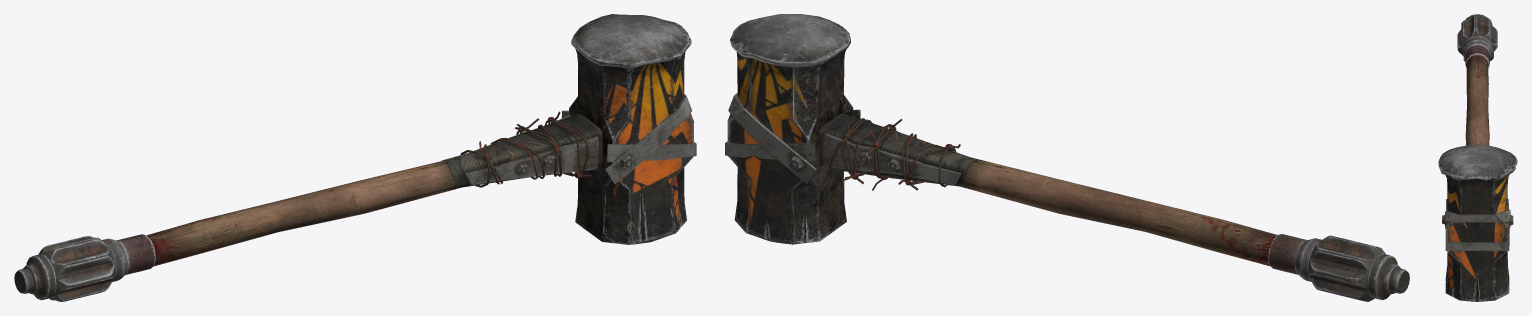
File: hammer.glb
3 renders of one model, left to right at view 1: azimuth 30°, elevation 25°; view 2: azimuth 150°, elevation 25°; view 3: azimuth 270°, elevation 25°, orthographic. The views are drawn at different scales.
Visible parts, largest first — view 1: Hammer_01; view 2: Hammer_01; view 3: Hammer_01.
Part boxes in pixels (x1,y1,x2,y2): Hammer_01: (14,14,696,301); Hammer_01: (725,14,1409,301); Hammer_01: (1438,14,1517,301).
Bounding box in the file's own units: 0.5002 × 0.1448 × 0.0758.
Materials: 1 (1 with a texture image).
